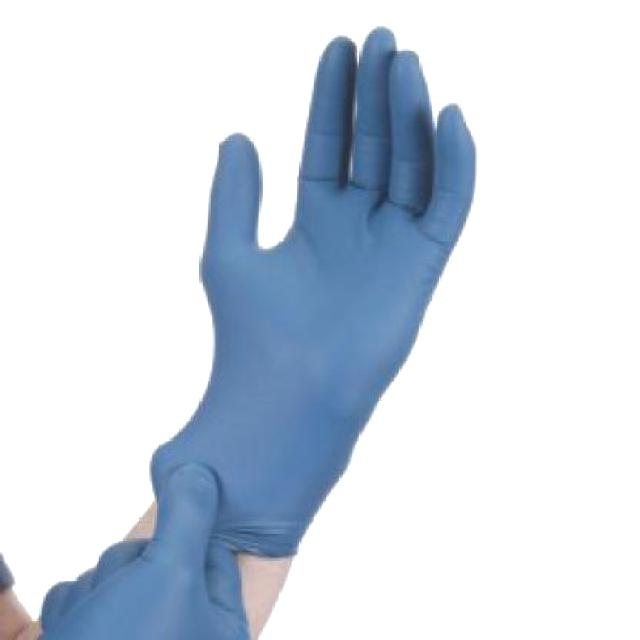glove: (93, 22, 485, 536), (33, 464, 264, 639)
